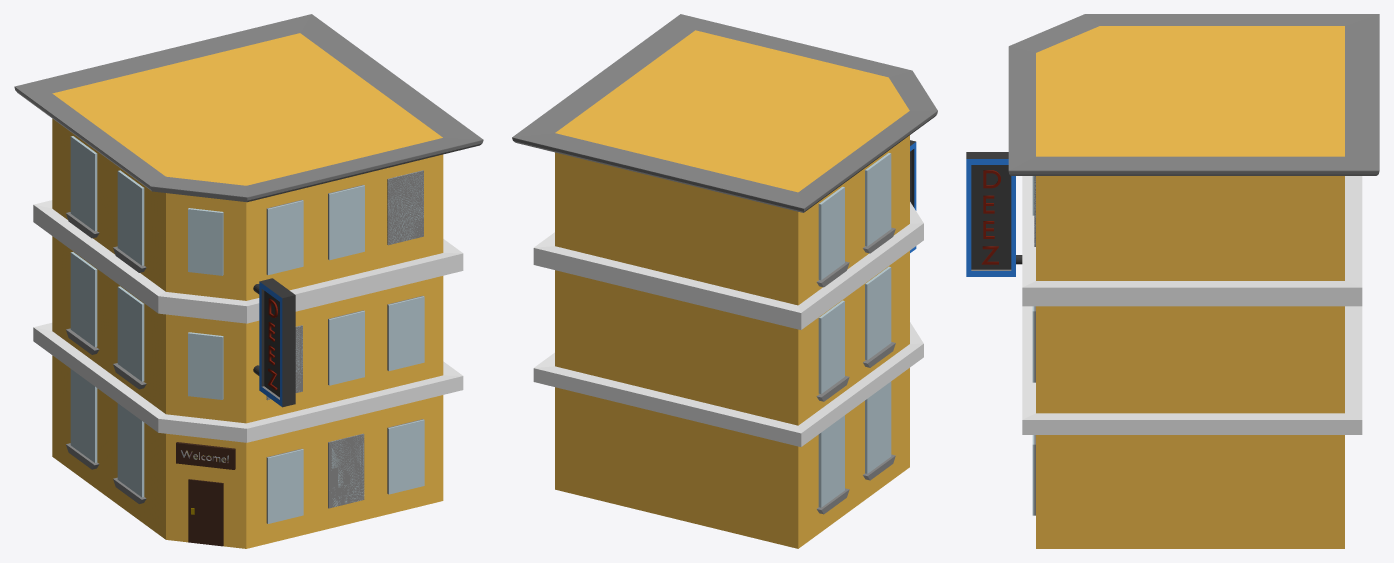
Rendered from cornerBuilding2.fbx.
3 renders of one model, left to right at view 1: azimuth 30°, elevation 25°; view 2: azimuth 150°, elevation 25°; view 3: azimuth 270°, elevation 25°, orthographic. The views are drawn at different scales.
Parts seen in each view (by area): view 1: Cube; view 2: Cube; view 3: Cube.
Boxes of the visible parts, x1,y1,x2,y2 form: Cube: (14,14,483,548); Cube: (512,14,937,548); Cube: (966,14,1379,548).
Size of the model in its own units: 1200 by 1402 by 1336.
